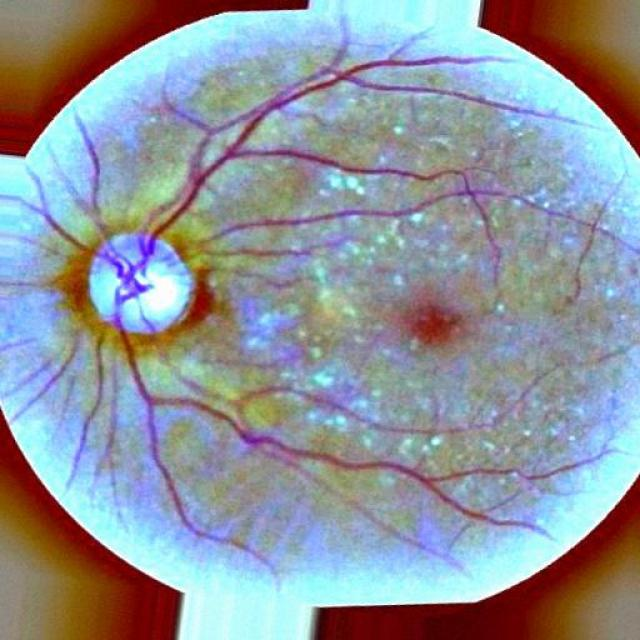Macula: (402, 300, 461, 344)
Nerves: (0, 49, 616, 566), (5, 331, 79, 425), (66, 331, 104, 484), (215, 239, 346, 256)
Optic Disk: (89, 232, 194, 332)
